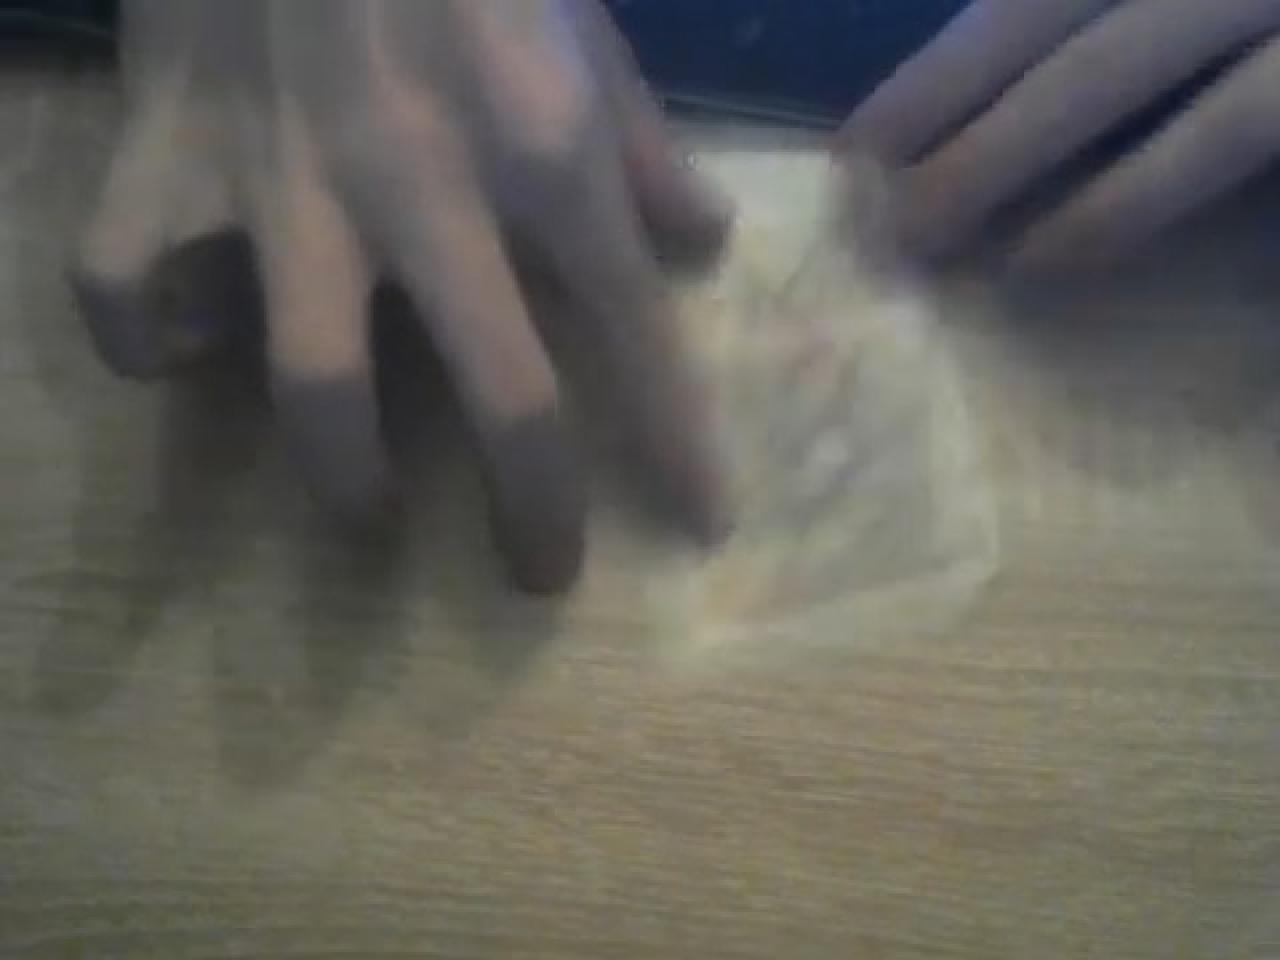10leva: (690, 170, 995, 626)
